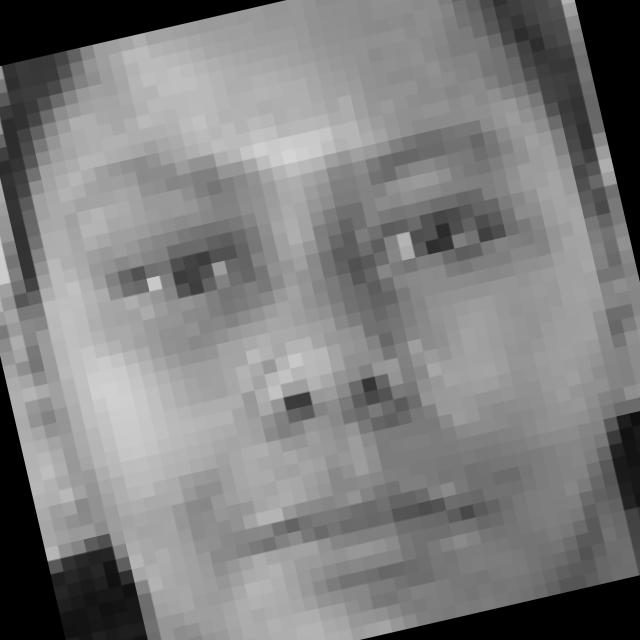neutral: (42, 63, 616, 638)
